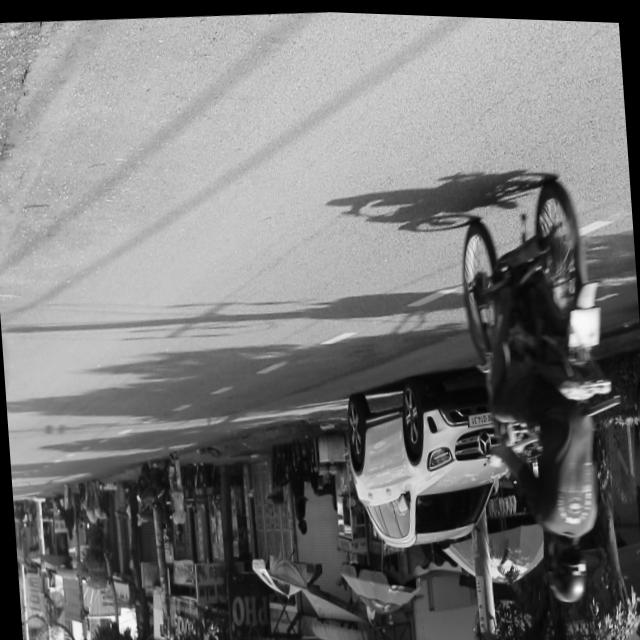helmet: (544, 528, 589, 602)
licenseplate: (450, 161, 632, 609)
nohelmet: (565, 303, 601, 342)
